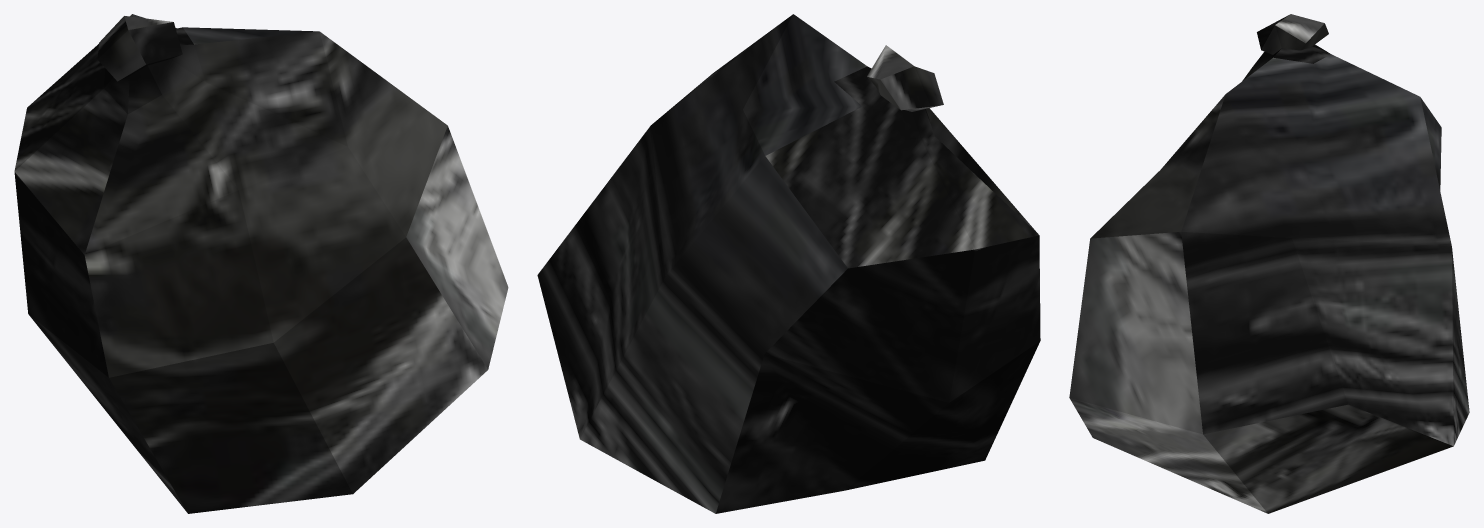
File: TrashBag2.fbx
3 views of the same model, side by side, from view 1: azimuth 30°, elevation 25°; view 2: azimuth 150°, elevation 25°; view 3: azimuth 270°, elevation 25° (orthographic). The views are drawn at different scales.
Visible parts, largest first — view 1: bag_1; view 2: bag_1; view 3: bag_1.
Part boxes in pixels (x1,y1,x2,y2): bag_1: [14, 14, 508, 513]; bag_1: [537, 14, 1040, 513]; bag_1: [1069, 14, 1469, 513].
Size of the model in its own units: 1.49 by 1.33 by 1.51.
